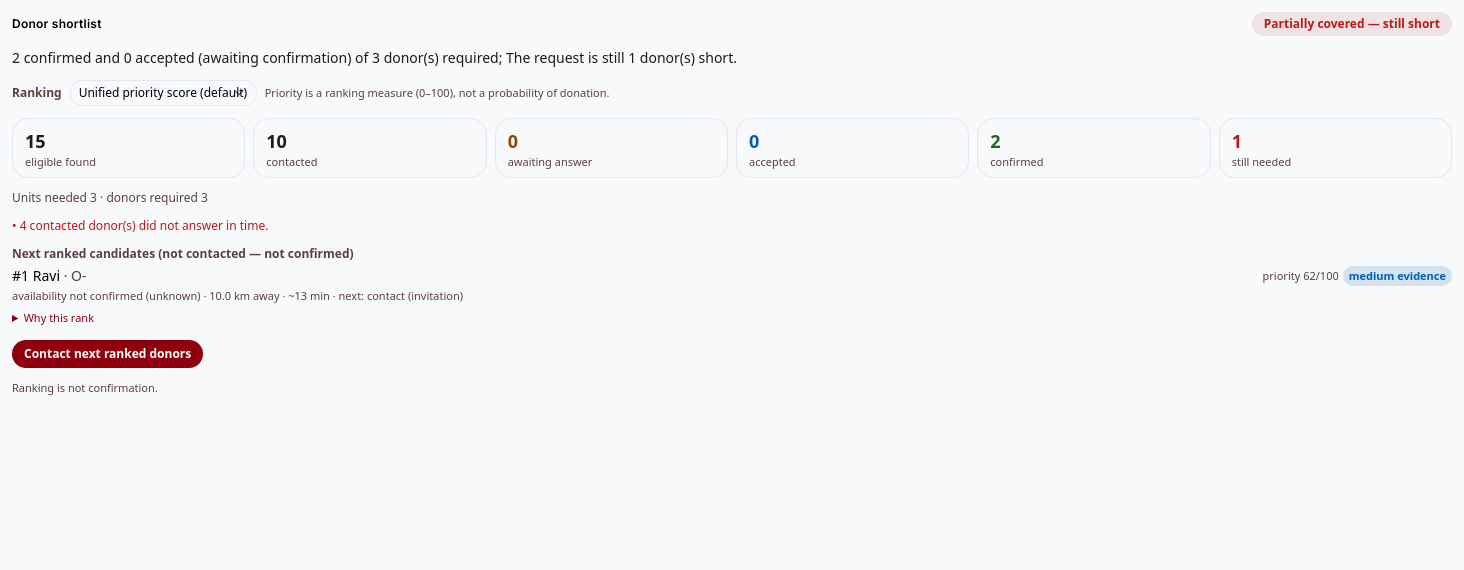
it: DonorShortlistPanel › renders a SUMMARY explanation without weights or points (release gate C)
What coordinates should you click on to do the following:
click the heading "Why this rank"
I would click on:
 (59, 317)
Its box is [24,310,94,325].
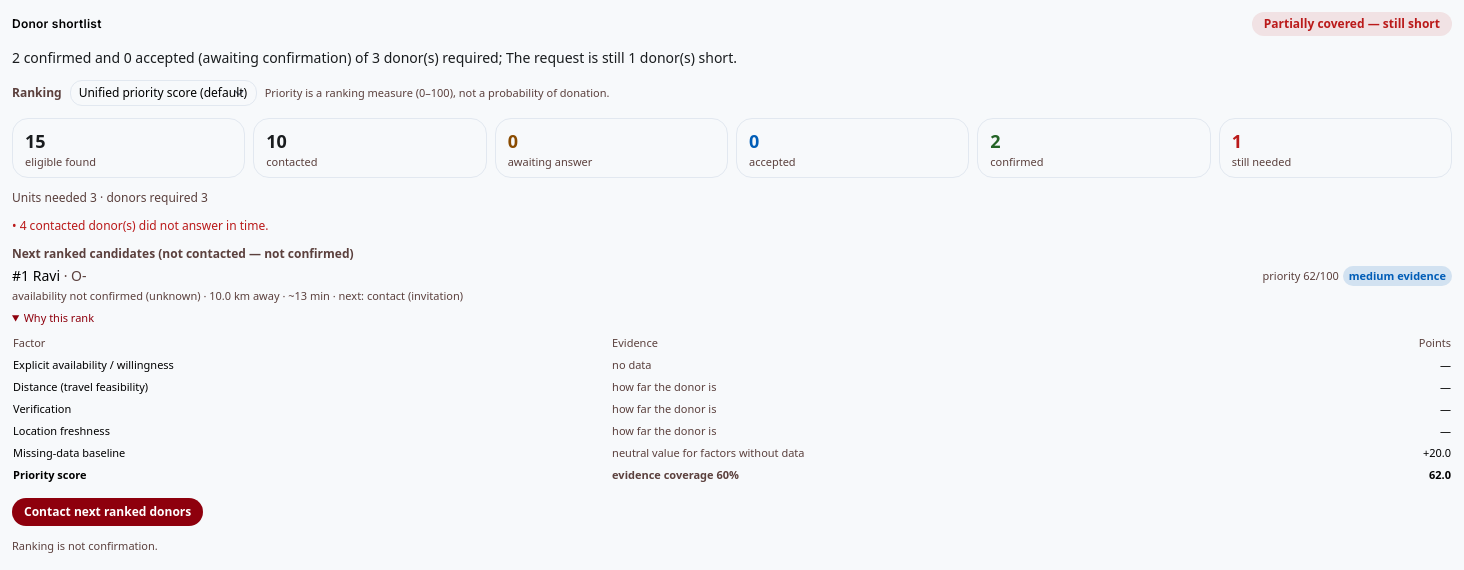
Expected: the table with test id "priority-breakdown" does not show "+16.0", [12,332,1452,486]
Now the table with test id "priority-breakdown" shows "62.0", box [1429,467,1451,482]
